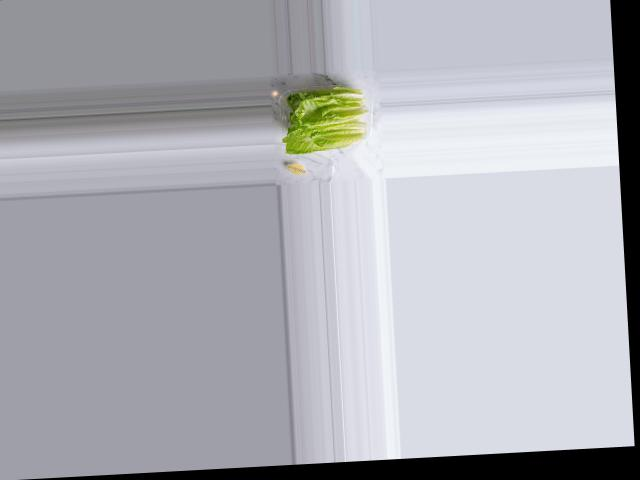lettuce: (278, 82, 370, 158)
